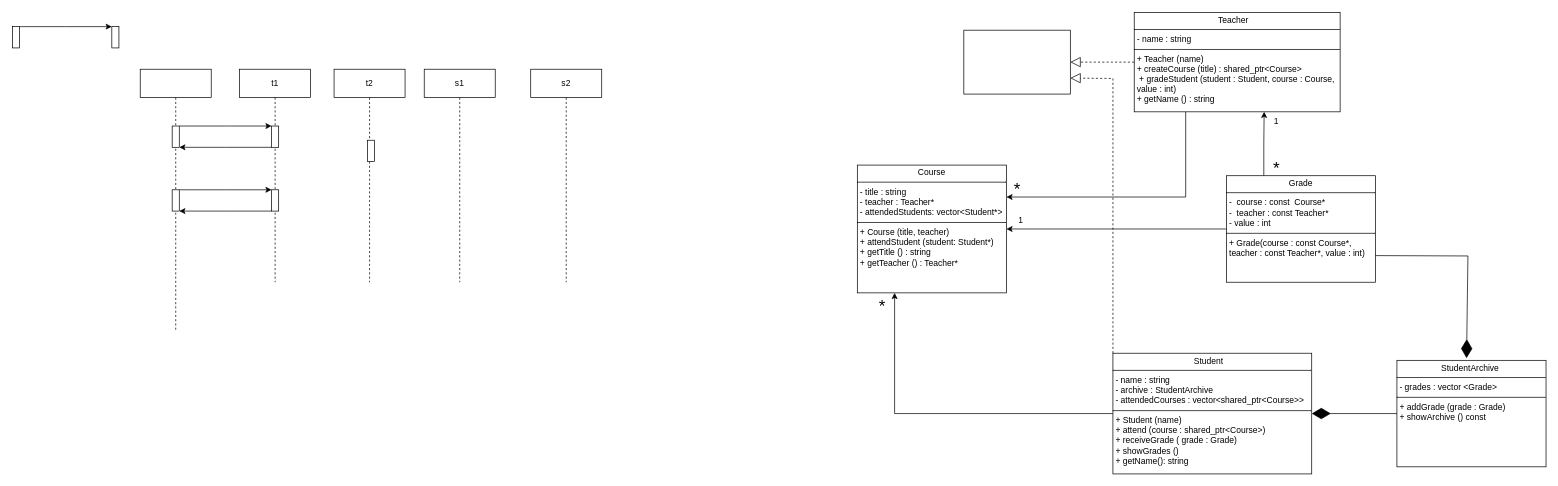
This 1558x486 diagram has some shape labels left out. The shapes that lost their labels are listed below. From the top down, each one's centre as x and y in pixels, then its label:
At point (1016, 61): "«interface » INamed + getName() : string".
At point (175, 200): "main".
